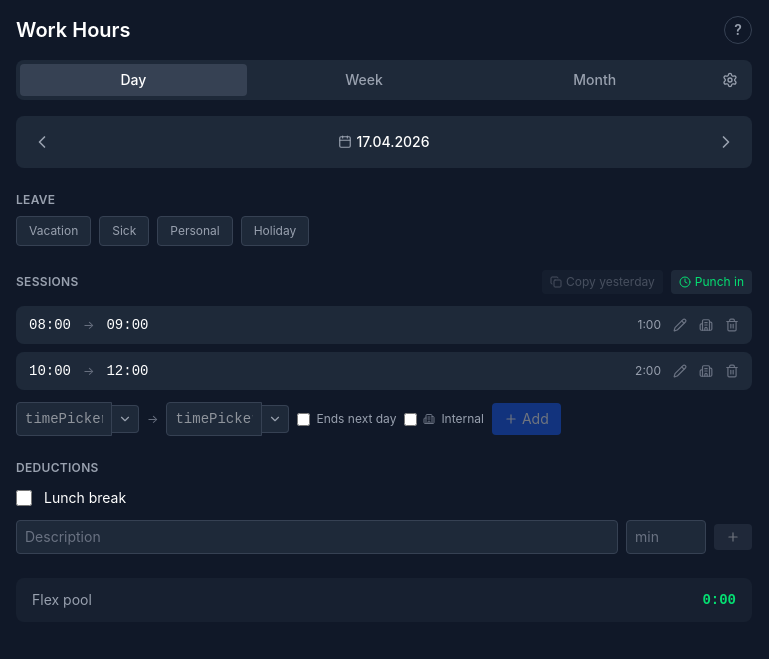
Test: DayView session conflict messages › shows the conflict on the edited row and clears it on cancel
The image size is (769, 659).
Expected: the text "08:00" is shown, 29,315 -> 71,335
Click the button named "Edit session" next to "1:00": (680, 325) 673,318 -> 687,332
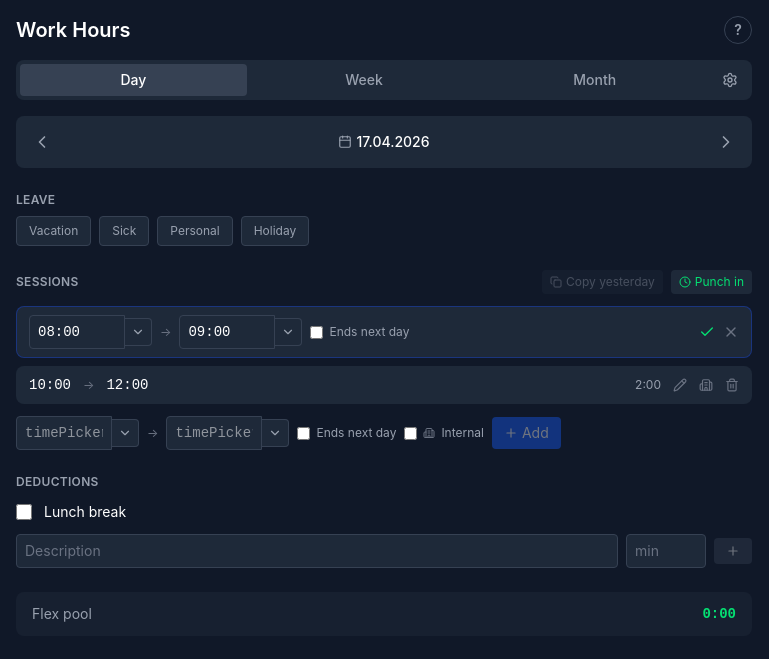
Replace the text in the dropdown named "End time" with "11:00": (228, 332) 180,315 -> 276,349
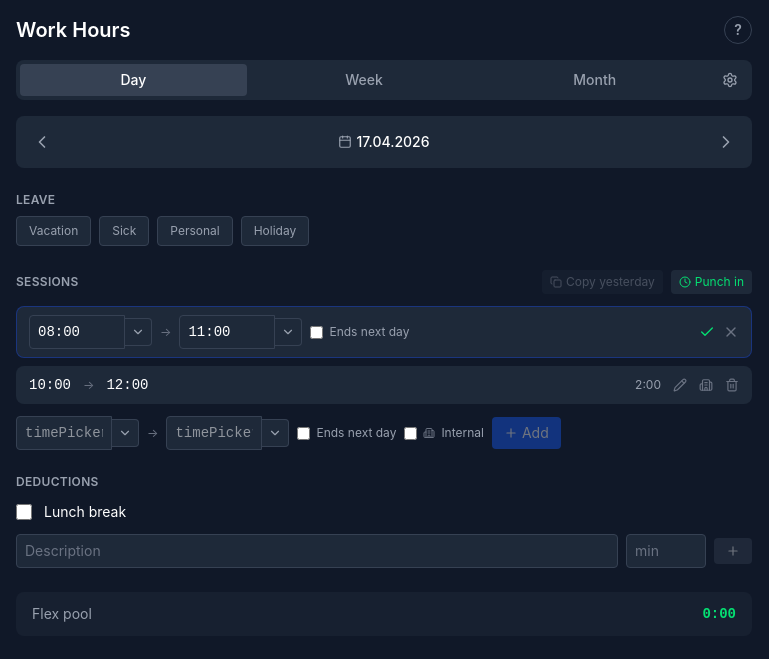
Click the button named "Save session": (707, 332) 699,324 -> 715,340
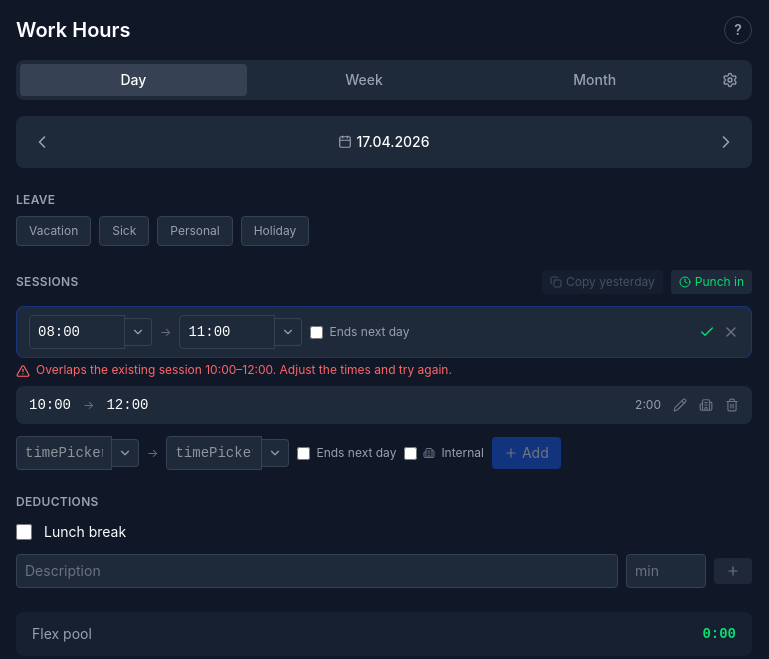
Result: the number of dropdowns named "End time" is 1 at 180,315 -> 276,349
Click the button named "Cancel editing": (731, 332) 723,324 -> 739,340
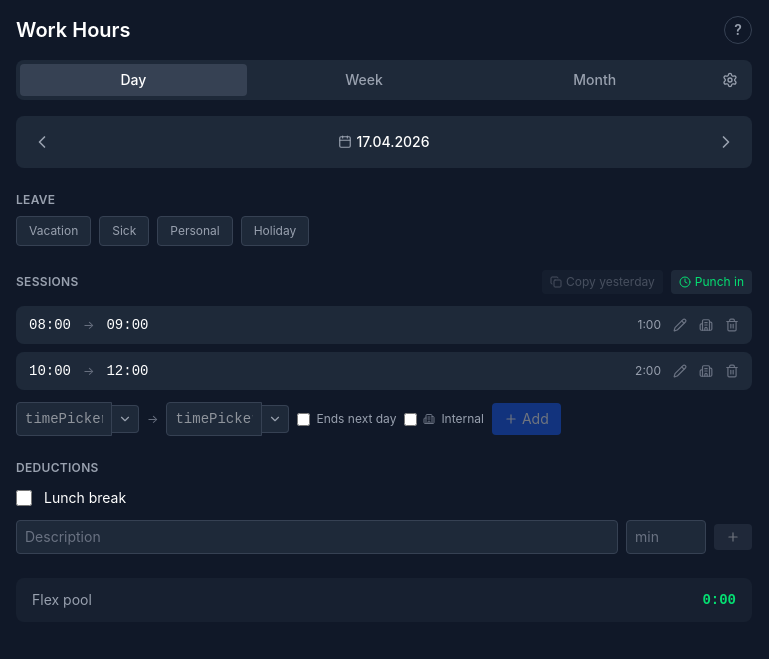
Result: the message "Overlaps the existing session 10:00–12:00. Adjust the times and try again." is gone
